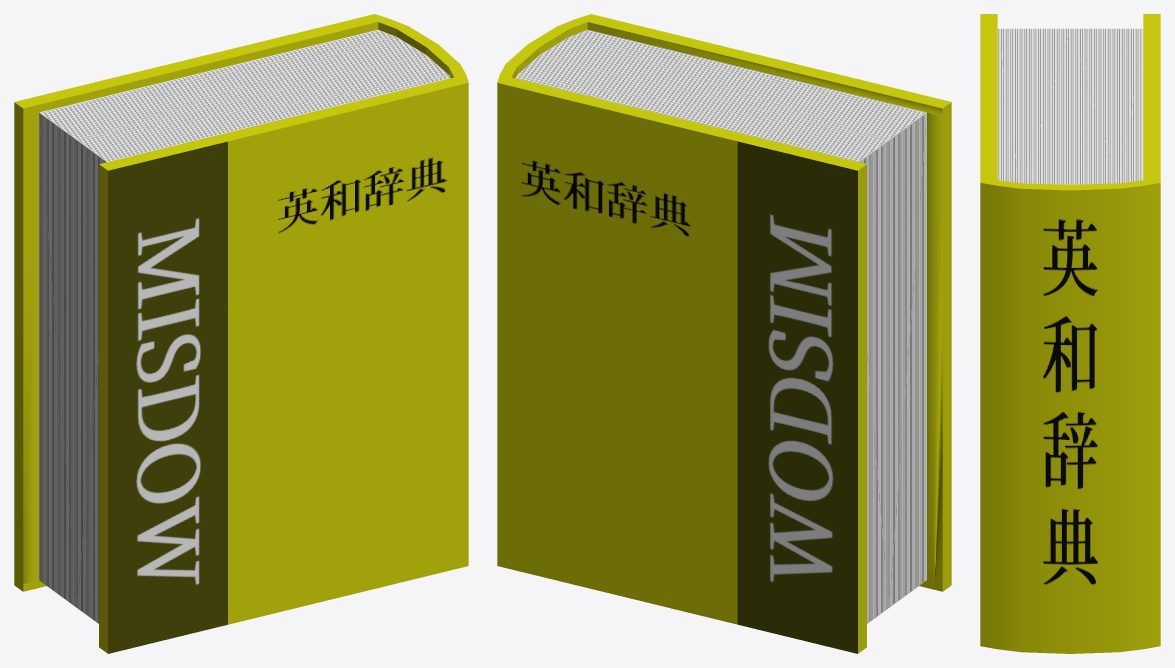
File: book3.obj
3 renders of one model, left to right at view 1: azimuth 30°, elevation 25°; view 2: azimuth 150°, elevation 25°; view 3: azimuth 270°, elevation 25°, orthographic. The views are drawn at different scales.
Parts seen in each view (by area): view 1: book1.001; view 2: book1.001; view 3: book1.001.
Boxes of the visible parts, x1,y1,x2,y2 form: book1.001: (14,14,468,653); book1.001: (497,14,951,653); book1.001: (980,14,1160,653).
Size of the model in its own units: 0.8168 by 1 by 0.3523.
